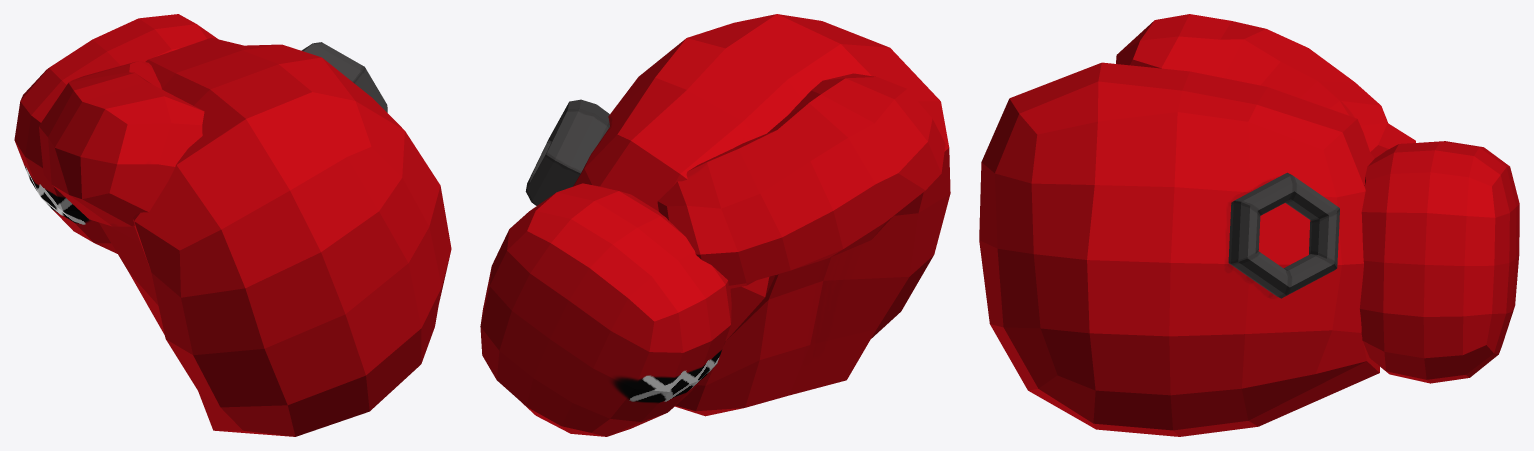
File: rocketGlove.fbx
3 renders of one model, left to right at view 1: azimuth 30°, elevation 25°; view 2: azimuth 150°, elevation 25°; view 3: azimuth 270°, elevation 25°, orthographic.
Parts seen in each view (by area): view 1: glove, gloveExhaust; view 2: glove, gloveExhaust; view 3: glove, gloveExhaust.
Boxes of the visible parts, x1,y1,x2,y2 form: glove: [14, 14, 451, 436]; gloveExhaust: [301, 42, 387, 112]; glove: [480, 14, 950, 436]; gloveExhaust: [525, 99, 609, 205]; glove: [979, 14, 1519, 436]; gloveExhaust: [1228, 172, 1339, 298].
Size of the model in its own units: 59.76 by 56.85 by 80.96.
2 materials, 2 textured.
